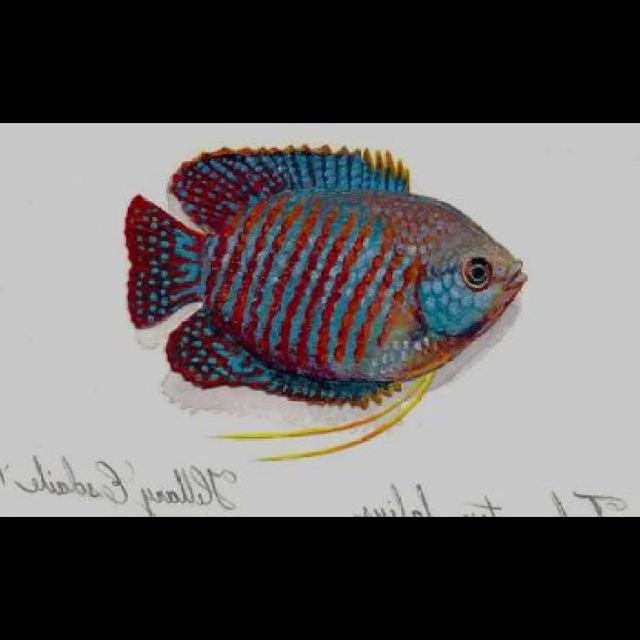Gourami: (131, 142, 518, 390)
